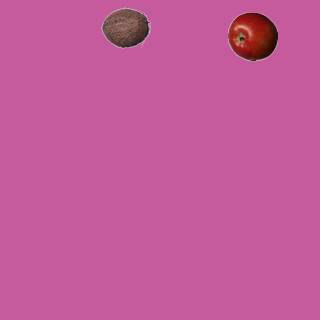Apple Braeburn: (227, 11, 277, 61)
Cocos: (100, 2, 150, 52)
